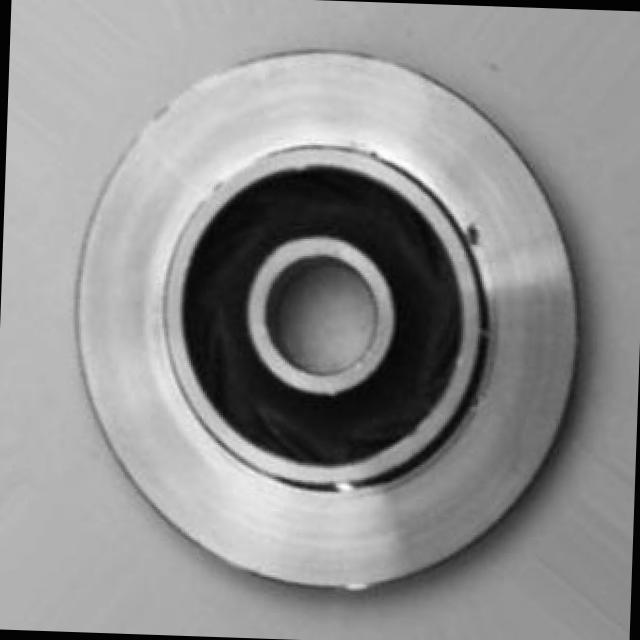Defect: (461, 214, 488, 250)
